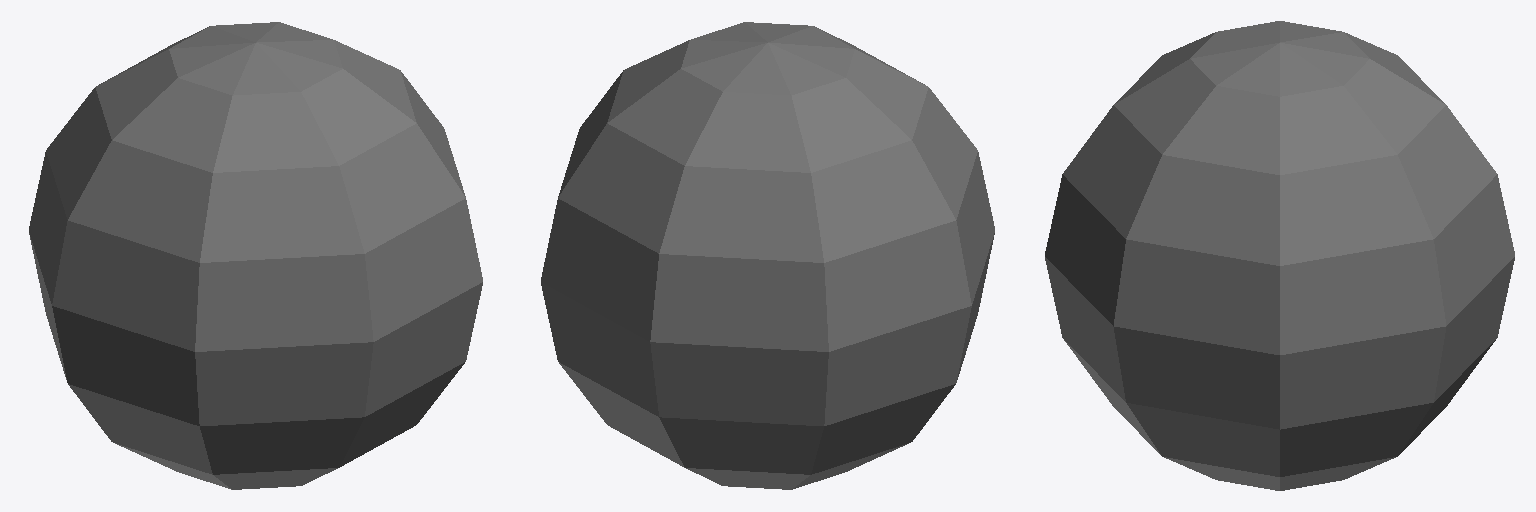
The model's file is area51_tower_ufo_d1.obj.
3 renders of one model, left to right at view 1: azimuth 30°, elevation 25°; view 2: azimuth 150°, elevation 25°; view 3: azimuth 270°, elevation 25°, orthographic.
Parts seen in each view (by area): view 1: forcefield group; view 2: forcefield group; view 3: forcefield group.
Boxes of the visible parts, <box> form: forcefield group: <box>29,22,482,489</box>; forcefield group: <box>541,22,994,489</box>; forcefield group: <box>1045,21,1514,490</box>.
Size of the model in its own units: 9.63 by 9.63 by 9.63.